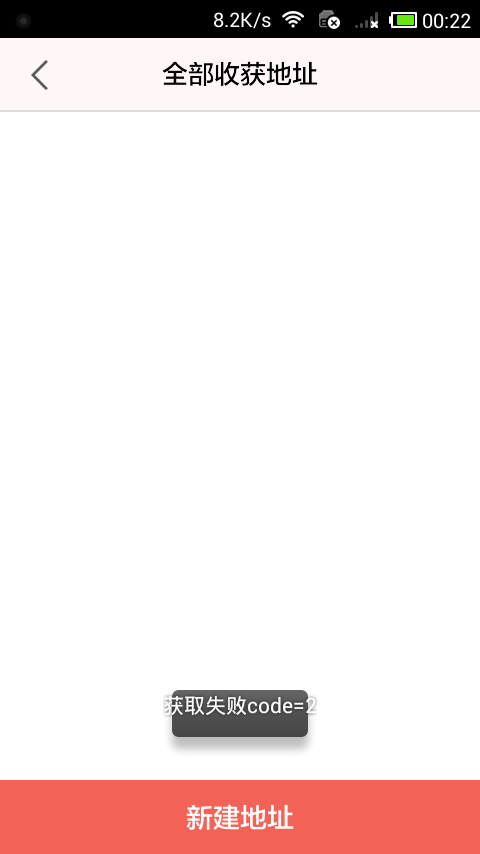alert: (152, 685, 338, 759)
button: (6, 782, 480, 853)
textview: (6, 43, 476, 115)
